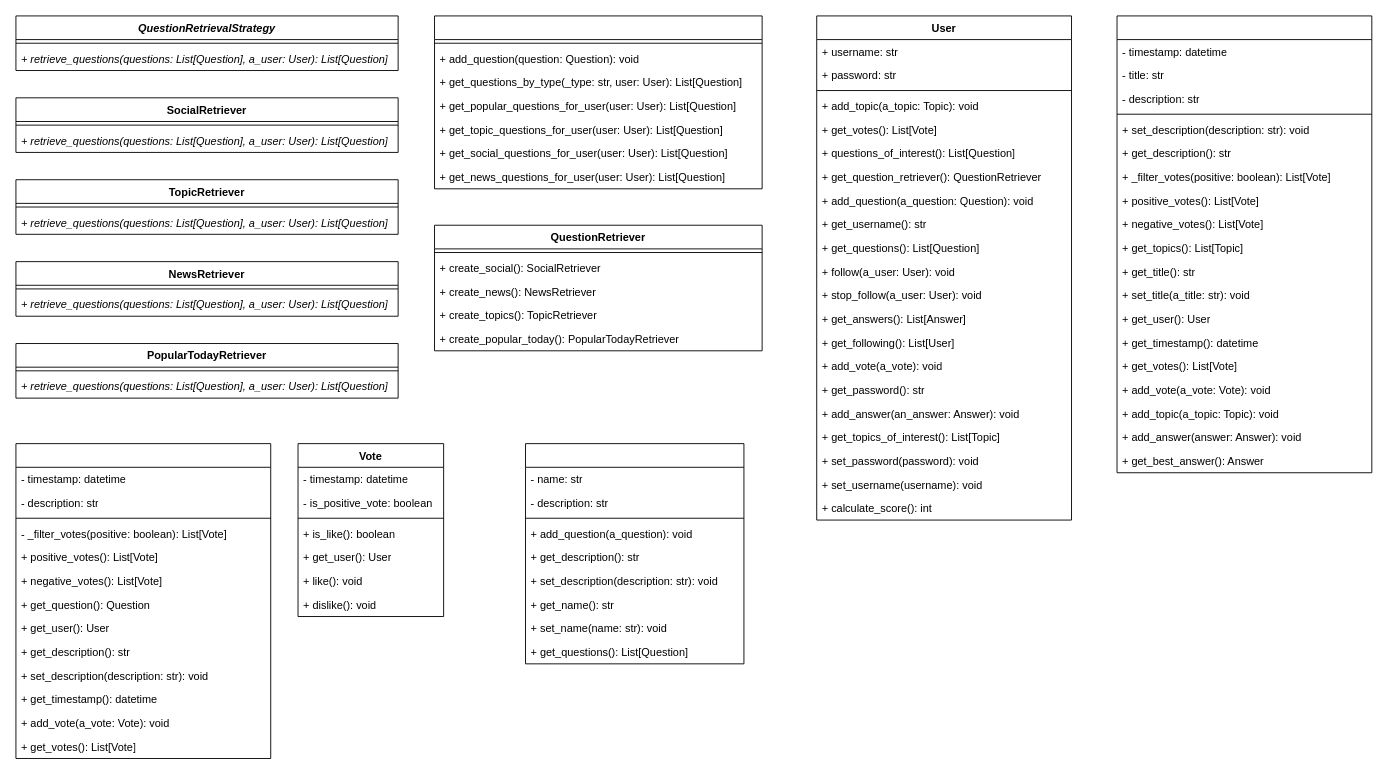
The diagram is 1388 pixels wide and 777 high, and some of its shapes have lost their labels. Here are the shapes that lost their labels. From the top down, the box of each, then its label:
(434, 15, 762, 189): CuOOra
(1116, 15, 1372, 473): Question
(525, 443, 744, 664): Topic
(15, 443, 271, 758): Answer
